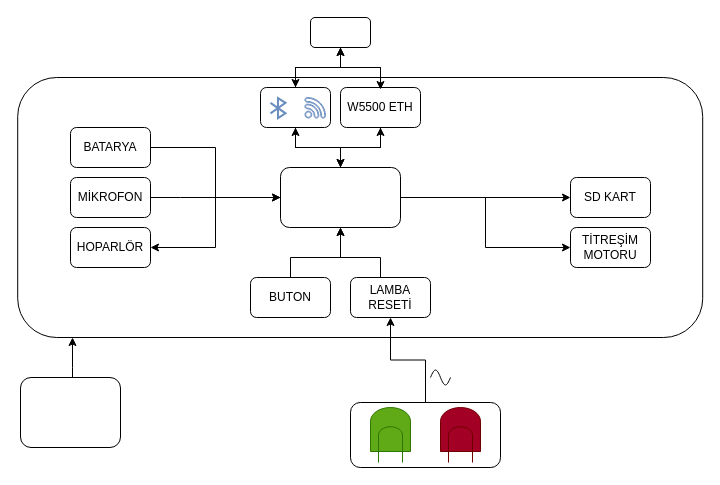
This 720x485 diagram has some shape labels left out. Here are the shapes that lost their labels. From the top down, the box of each, then its label:
(310, 16, 370, 48): YAZILIM
(280, 166, 400, 228): ESP32
(20, 376, 120, 448): 24VDC GÜÇ KAYNAĞI
